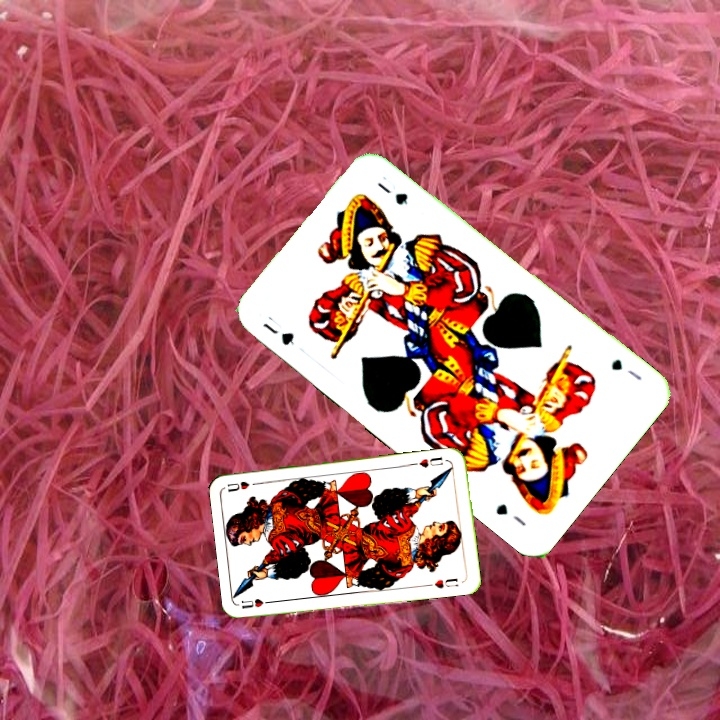GU: (258, 311, 297, 348), (607, 354, 645, 383)
HU: (237, 595, 277, 611), (415, 453, 446, 470)
